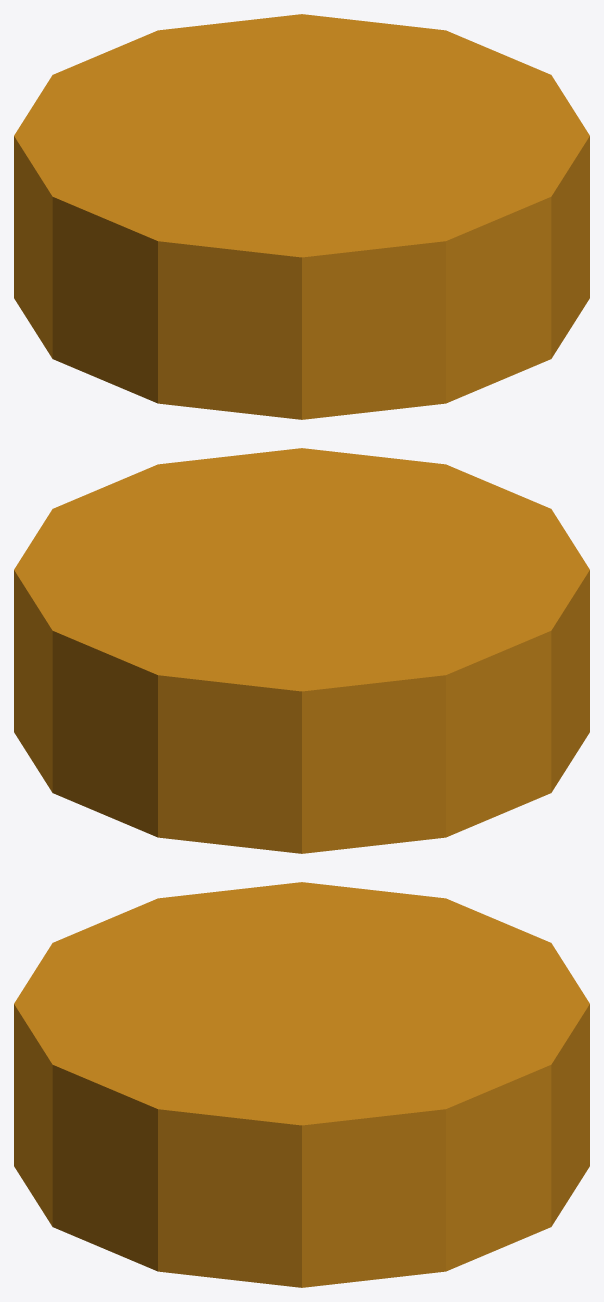
File: Center_Gold_Band.obj
3 views of the same model, one above another, from view 1: azimuth 30°, elevation 25°; view 2: azimuth 150°, elevation 25°; view 3: azimuth 270°, elevation 25° (orthographic).
Parts seen in each view (by area): view 1: Center_Gold_Band; view 2: Center_Gold_Band; view 3: Center_Gold_Band.
Boxes of the visible parts, x1,y1,x2,y2 form: Center_Gold_Band: (14, 14, 589, 419); Center_Gold_Band: (14, 448, 589, 853); Center_Gold_Band: (14, 882, 589, 1287).
Size of the model in its own units: 0.9 by 0.28 by 0.9.
